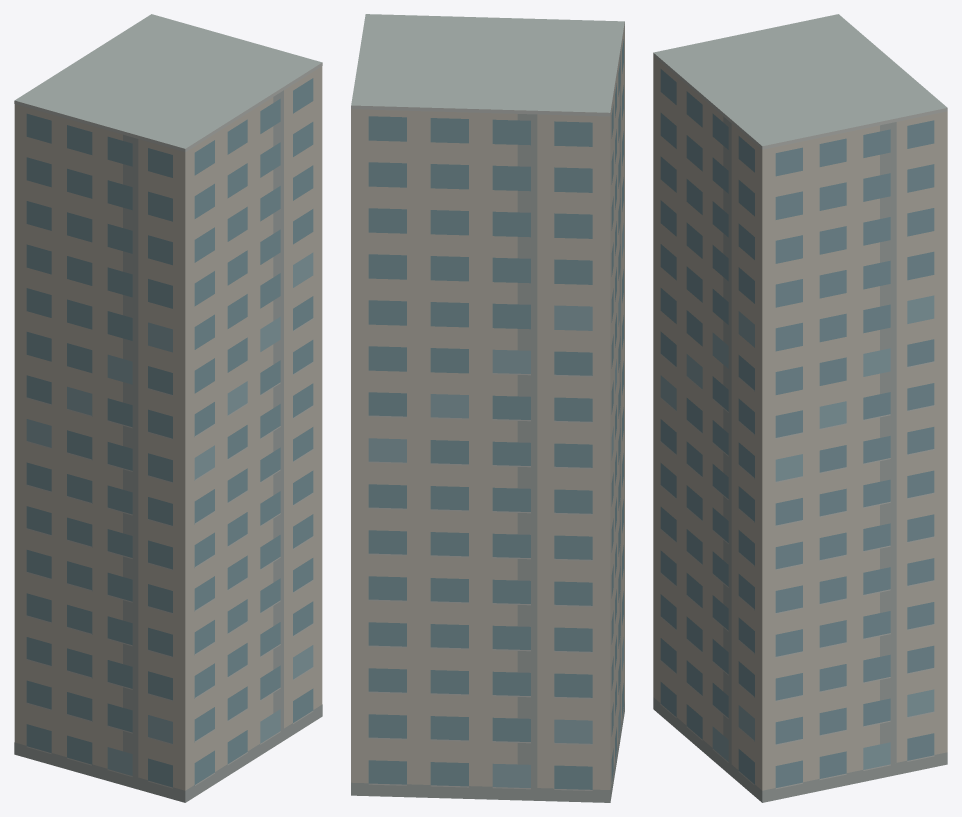
The model's file is residential-1b8c9964-8e2f-4135-ac65-ddb0cc078ba4.glb.
3 renders of one model, left to right at view 1: azimuth 30°, elevation 25°; view 2: azimuth 150°, elevation 25°; view 3: azimuth 270°, elevation 25°, orthographic. The views are drawn at different scales.
Visible parts, largest first — view 1: residential-1b8c9964-8e2f-4135-ac65-ddb0cc078ba4.tmp; view 2: residential-1b8c9964-8e2f-4135-ac65-ddb0cc078ba4.tmp; view 3: residential-1b8c9964-8e2f-4135-ac65-ddb0cc078ba4.tmp.
Boxes of the visible parts, box(x1,y1,x2,y2) form: residential-1b8c9964-8e2f-4135-ac65-ddb0cc078ba4.tmp: box(14, 14, 322, 802); residential-1b8c9964-8e2f-4135-ac65-ddb0cc078ba4.tmp: box(351, 14, 624, 802); residential-1b8c9964-8e2f-4135-ac65-ddb0cc078ba4.tmp: box(653, 14, 947, 802).
Bounding box in the file's own units: 19.88 × 46 × 18.7.
